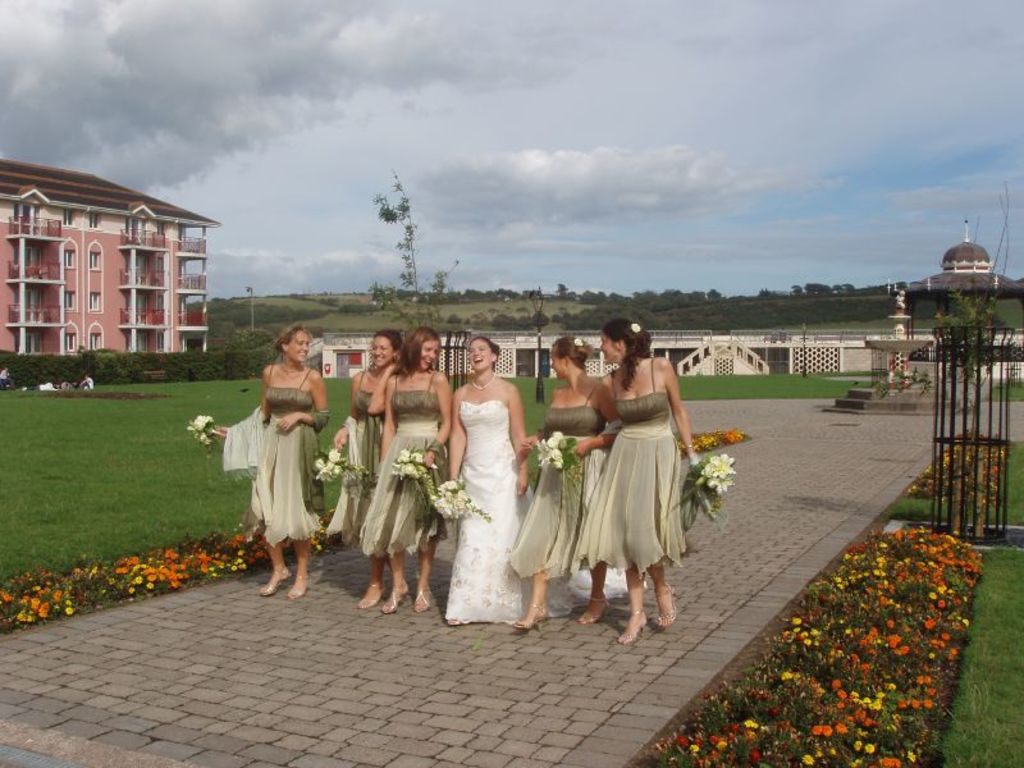Tree: (186, 295, 320, 335), (577, 288, 721, 314), (394, 285, 514, 307), (559, 304, 668, 326), (485, 311, 552, 334), (803, 280, 832, 300), (828, 277, 860, 293), (554, 277, 572, 303), (785, 284, 803, 300), (517, 289, 541, 300)
